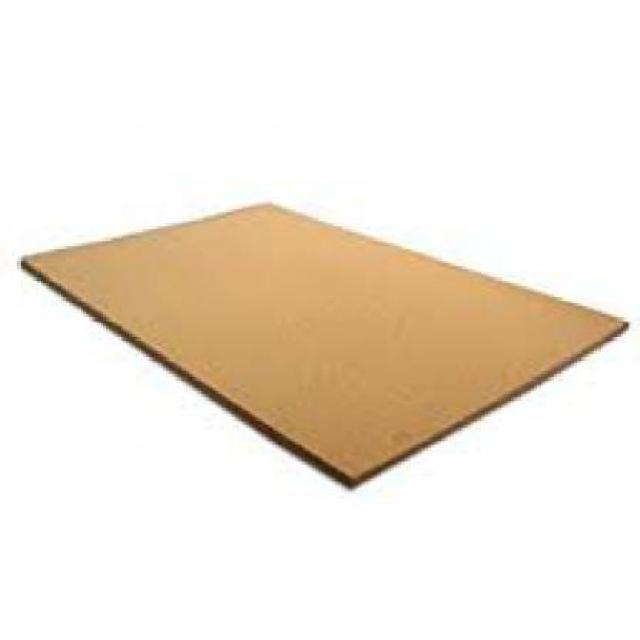CARDBOARD: (23, 198, 632, 482)
